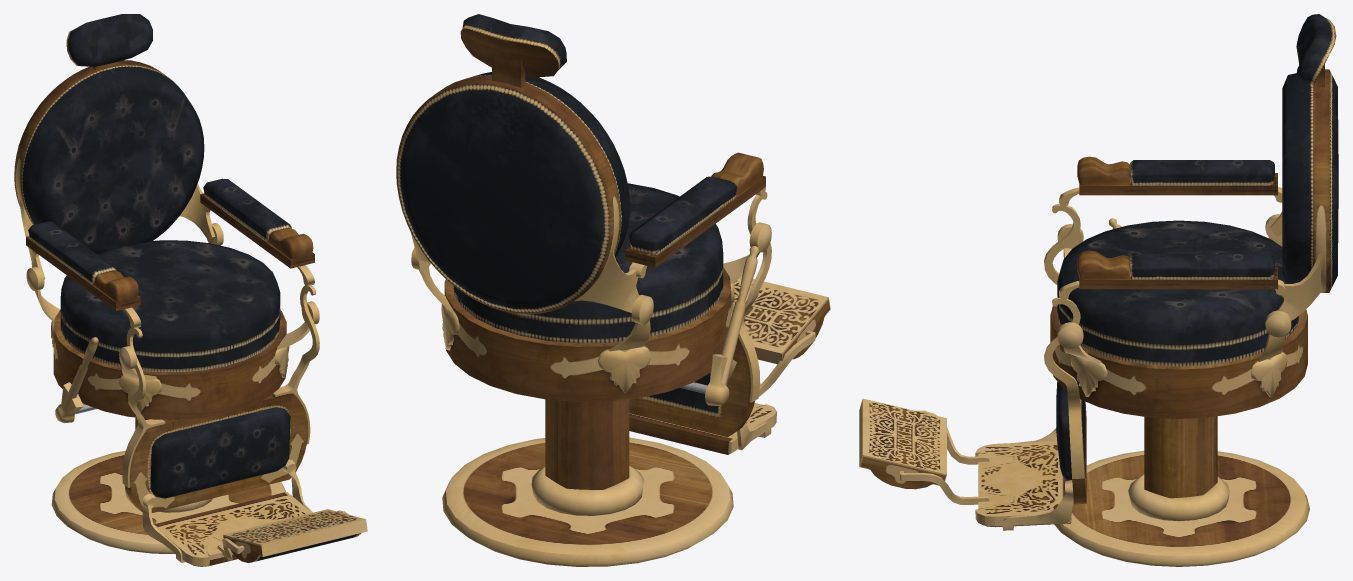
The model's file is barber-chair.glb.
The picture shows the model from 3 angles, left to right: view 1: azimuth 30°, elevation 25°; view 2: azimuth 150°, elevation 25°; view 3: azimuth 270°, elevation 25°; orthographic projection. The views are drawn at different scales.
Visible parts, largest first — view 1: BarberShopChair_01; view 2: BarberShopChair_01; view 3: BarberShopChair_01.
Part boxes in pixels (x1=…): BarberShopChair_01: x1=14, y1=14, x2=367, y2=566; BarberShopChair_01: x1=396, y1=14, x2=830, y2=566; BarberShopChair_01: x1=859, y1=14, x2=1338, y2=566.
Size of the model in its own units: 0.7566 by 1.49 by 1.33.
Materials: 1 (1 with a texture image).
